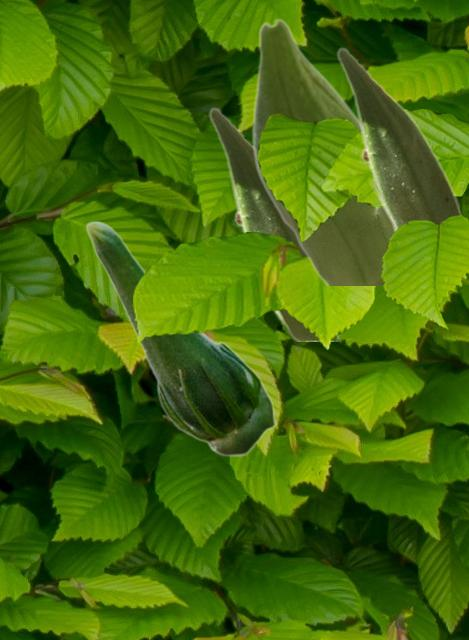okra: (85, 220, 275, 456), (251, 18, 392, 284), (208, 106, 339, 340), (336, 46, 464, 234)
